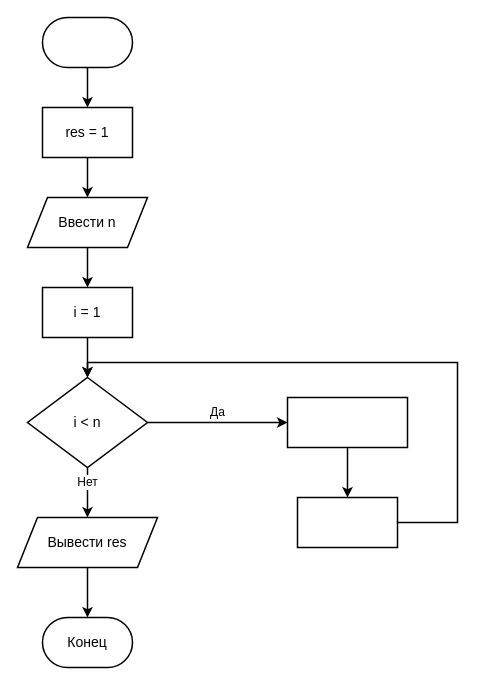
This 484x686 diagram has some shape labels left out. The shapes that lost their labels are listed below. From the top down, each one's box as (x1, y1, x2, y2) in pixels, then its label:
(41, 16, 133, 68): Начало
(286, 396, 408, 448): res = res * i
(296, 496, 398, 548): i = i + 0.1
